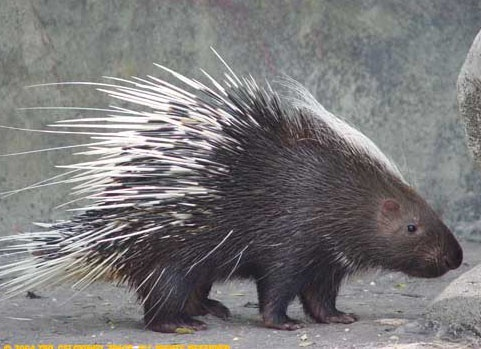porcupine: (3, 61, 470, 332)
